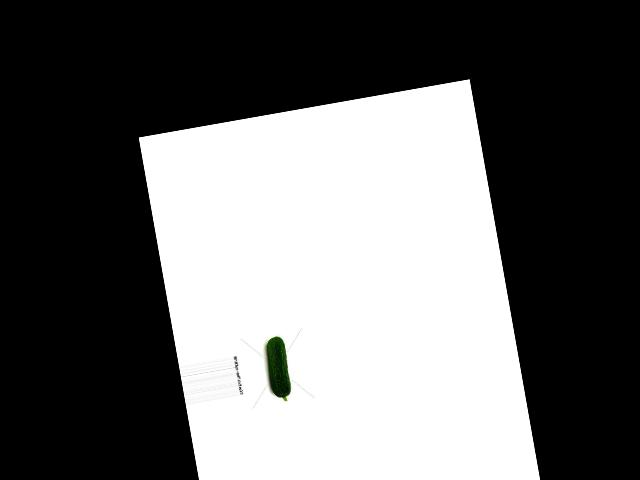cucumber: (262, 334, 293, 403)
